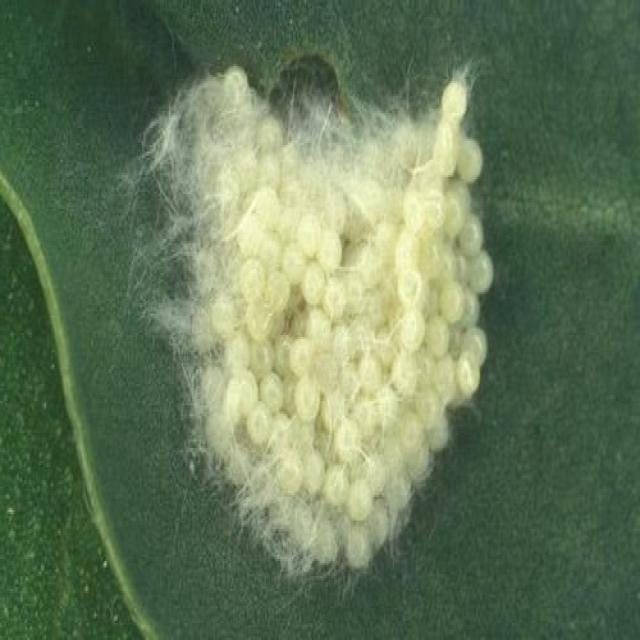army worm: (123, 57, 493, 603)
